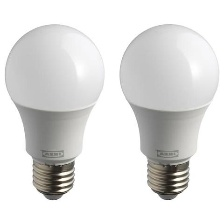light_bulb: (115, 19, 224, 202), (3, 20, 106, 201)
